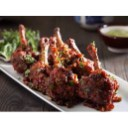chicken_lollipop: (70, 35, 119, 110), (48, 35, 81, 107), (28, 31, 52, 94), (11, 24, 37, 70)
